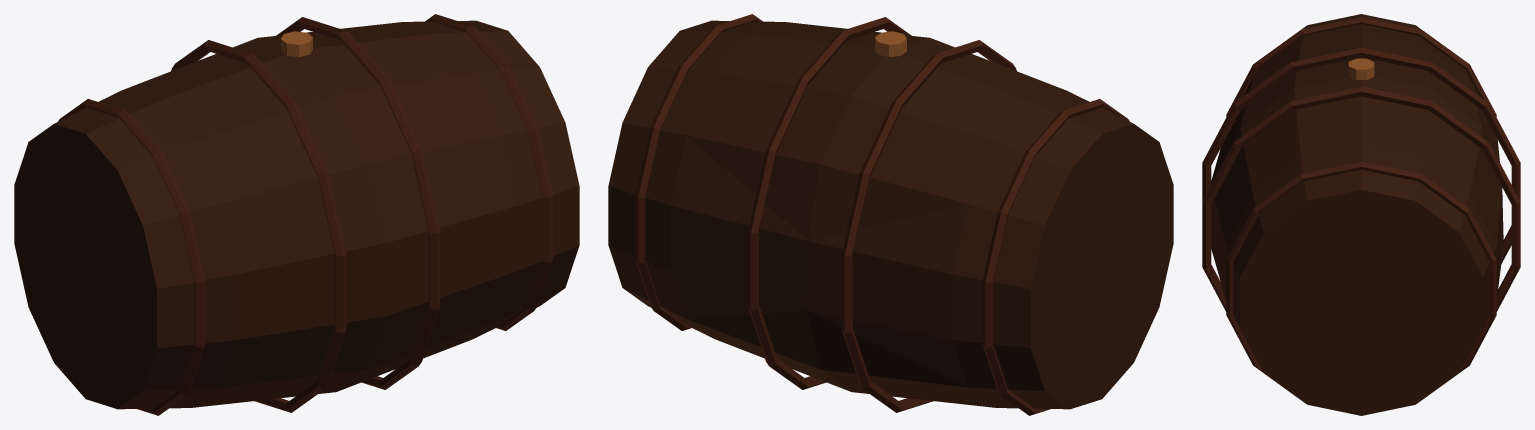
The model's file is DEBRIS_04_FloatingBarrel.obj.
The picture shows the model from 3 angles, left to right: view 1: azimuth 30°, elevation 25°; view 2: azimuth 150°, elevation 25°; view 3: azimuth 270°, elevation 25°; orthographic projection. The views are drawn at different scales.
Parts seen in each view (by area): view 1: DEBRIS_04_FloatingBarrel_Staves, DEBRIS_04_FloatingBarrel_Hoops, DEBRIS_04_FloatingBarrel_Bung; view 2: DEBRIS_04_FloatingBarrel_Staves, DEBRIS_04_FloatingBarrel_Hoops, DEBRIS_04_FloatingBarrel_Bung; view 3: DEBRIS_04_FloatingBarrel_Staves, DEBRIS_04_FloatingBarrel_Hoops, DEBRIS_04_FloatingBarrel_Bung.
Part boxes in pixels (x1,y1,x2,y2): DEBRIS_04_FloatingBarrel_Staves: [14, 20, 579, 409]; DEBRIS_04_FloatingBarrel_Hoops: [58, 14, 552, 415]; DEBRIS_04_FloatingBarrel_Bung: [281, 31, 312, 56]; DEBRIS_04_FloatingBarrel_Staves: [608, 20, 1173, 409]; DEBRIS_04_FloatingBarrel_Hoops: [635, 14, 1129, 415]; DEBRIS_04_FloatingBarrel_Bung: [875, 31, 906, 56]; DEBRIS_04_FloatingBarrel_Staves: [1210, 14, 1503, 415]; DEBRIS_04_FloatingBarrel_Hoops: [1202, 17, 1520, 372]; DEBRIS_04_FloatingBarrel_Bung: [1348, 58, 1374, 79].
Size of the model in its own units: 0.9 by 0.713 by 0.6883.
